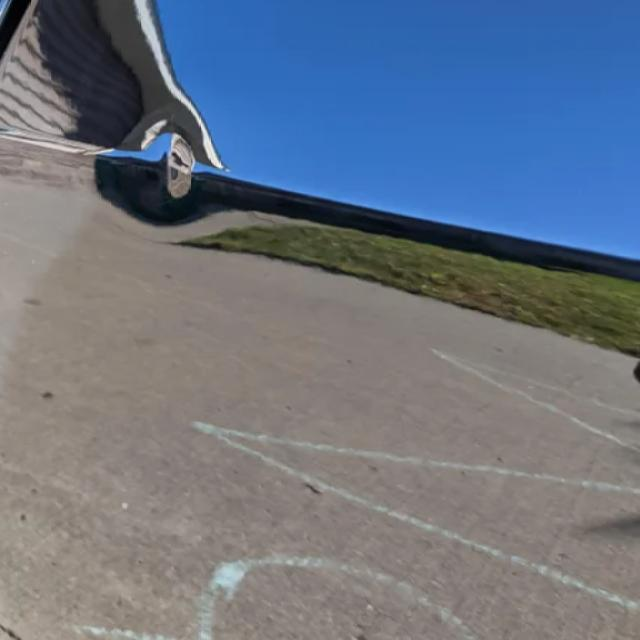dents: (90, 124, 229, 216)
